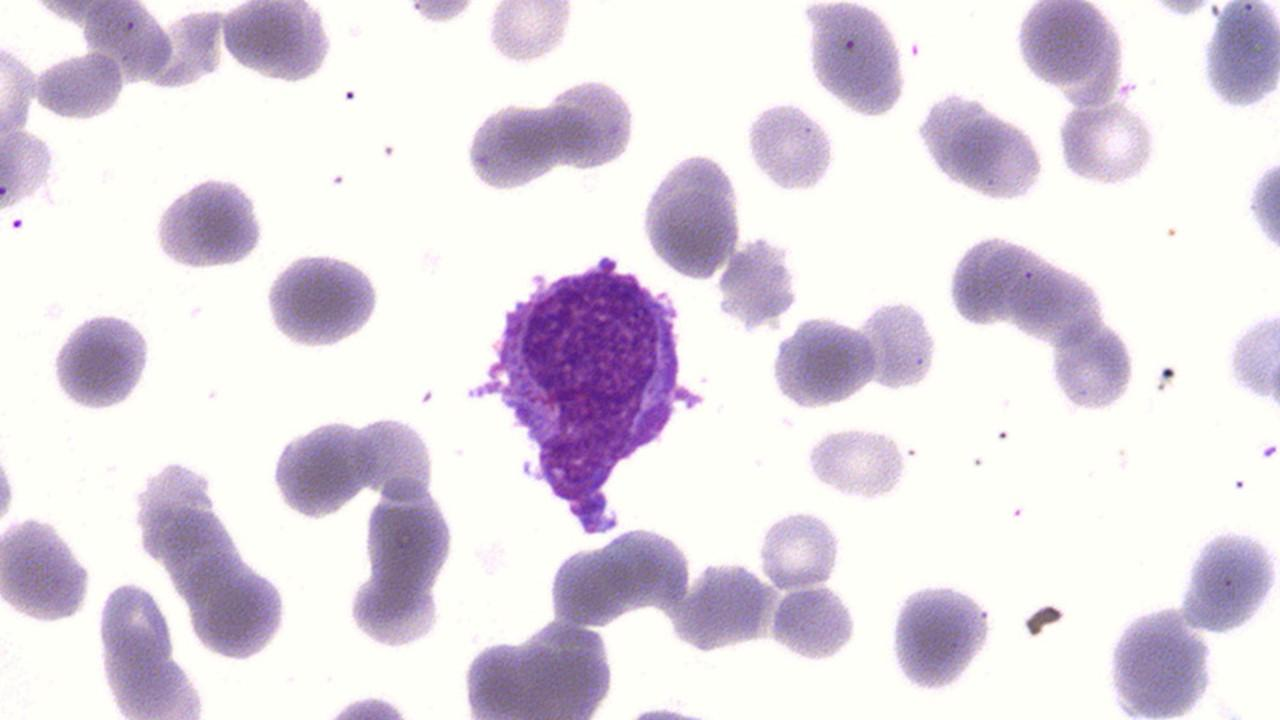Platelets: (882, 576, 998, 696), (259, 248, 381, 354), (45, 307, 156, 418), (1177, 525, 1277, 636), (740, 98, 840, 195), (462, 95, 558, 196), (1198, 0, 1278, 115), (799, 425, 911, 503), (716, 237, 804, 328), (480, 4, 576, 67), (1224, 305, 1280, 412), (1246, 155, 1280, 258), (1256, 440, 1280, 462), (8, 216, 25, 232)
RBC: (766, 311, 882, 412), (1053, 98, 1161, 191), (544, 74, 638, 175), (800, 422, 910, 504), (854, 294, 942, 395), (1011, 0, 1107, 91), (754, 505, 846, 593), (352, 414, 439, 505), (764, 584, 860, 664), (1, 32, 38, 137), (400, 0, 480, 27)
WBC: (466, 241, 710, 539), (0, 0, 142, 228), (912, 86, 1050, 205), (637, 146, 745, 283), (262, 241, 387, 357), (885, 575, 999, 696), (800, 0, 914, 119), (1102, 604, 1216, 718), (265, 411, 380, 522), (945, 228, 1062, 336), (148, 170, 270, 273), (45, 306, 156, 416), (767, 309, 881, 414), (217, 0, 339, 89), (0, 510, 96, 623), (461, 96, 560, 194), (1045, 314, 1139, 416), (741, 98, 839, 195), (544, 75, 640, 174), (853, 292, 943, 395), (1198, 2, 1280, 115), (1011, 0, 1111, 90), (800, 422, 911, 502), (1224, 306, 1280, 412)
